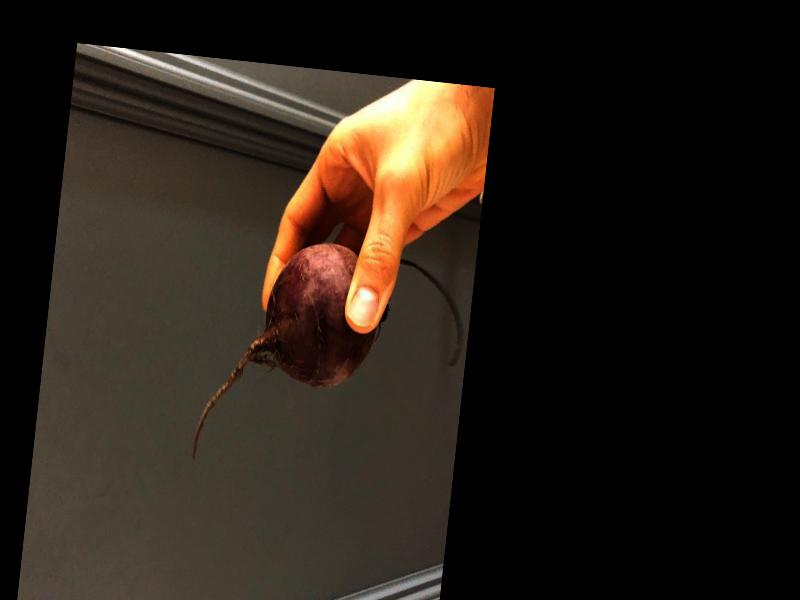Beet: (192, 231, 471, 489)
